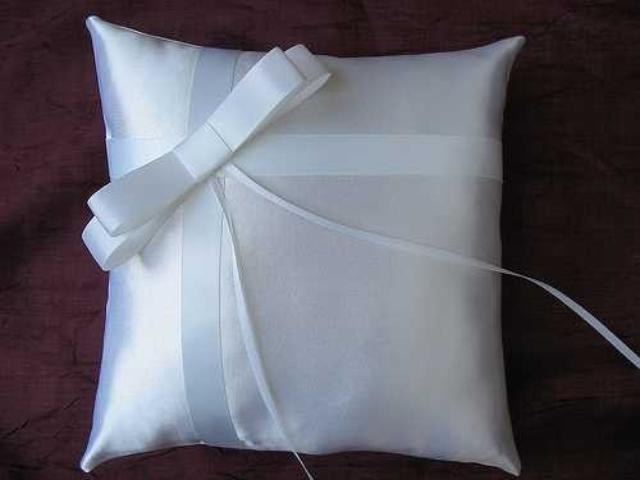pillow: (78, 16, 526, 476)
